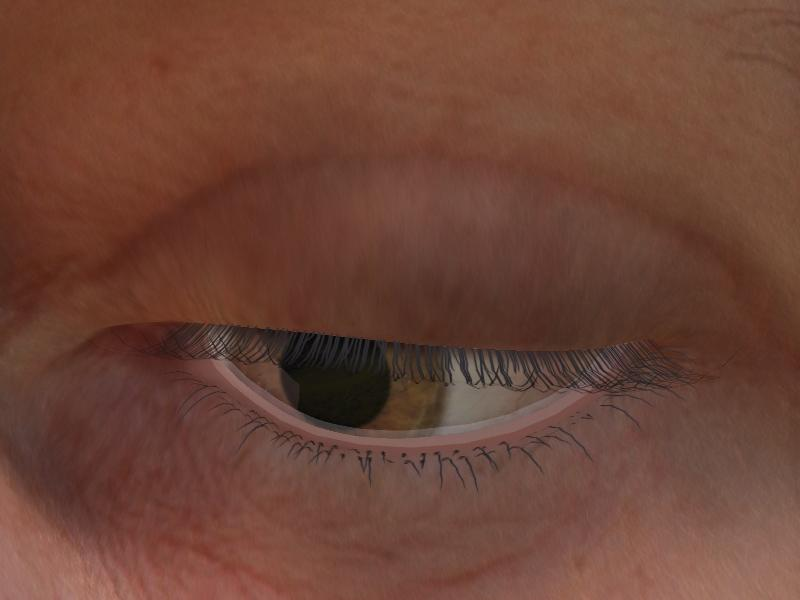eye: (226, 323, 448, 433)
